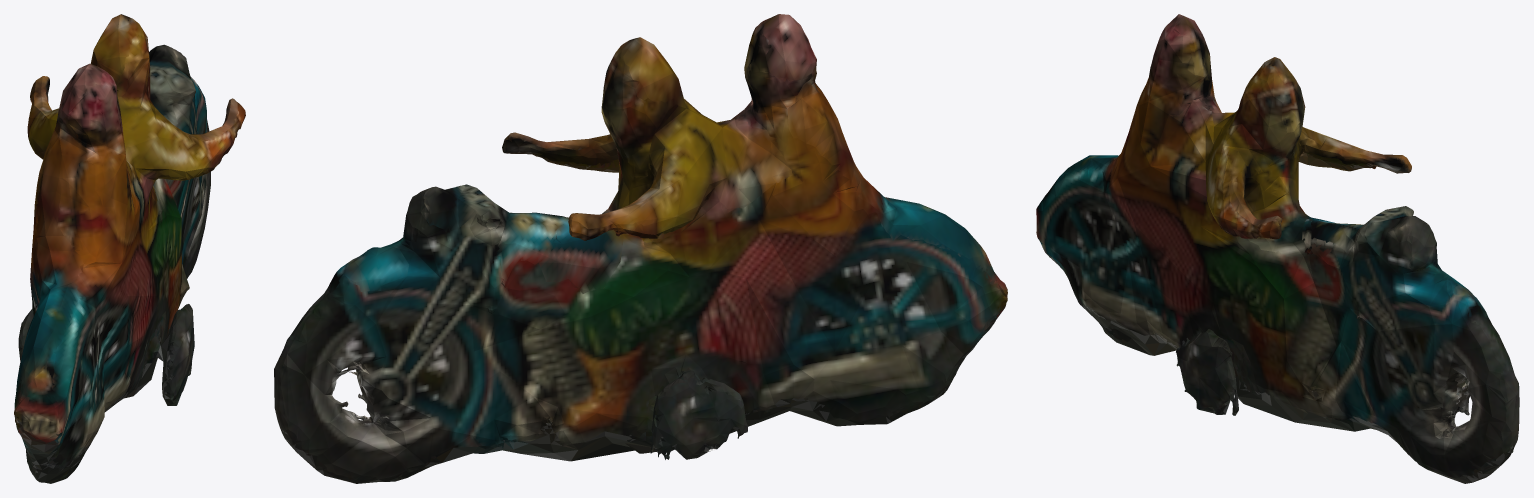
File: model_New Qlone_lp_24.fbx
3 renders of one model, left to right at view 1: azimuth 30°, elevation 25°; view 2: azimuth 150°, elevation 25°; view 3: azimuth 270°, elevation 25°, orthographic. The views are drawn at different scales.
Parts seen in each view (by area): view 1: model_New Qlone_lp_24; view 2: model_New Qlone_lp_24; view 3: model_New Qlone_lp_24.
Boxes of the visible parts, x1,y1,x2,y2 form: model_New Qlone_lp_24: [14, 14, 245, 483]; model_New Qlone_lp_24: [274, 14, 1007, 483]; model_New Qlone_lp_24: [1036, 14, 1519, 483].
Bounding box in the file's own units: 7.39 × 6.24 × 7.64.
Materials: 1 (1 with a texture image).
